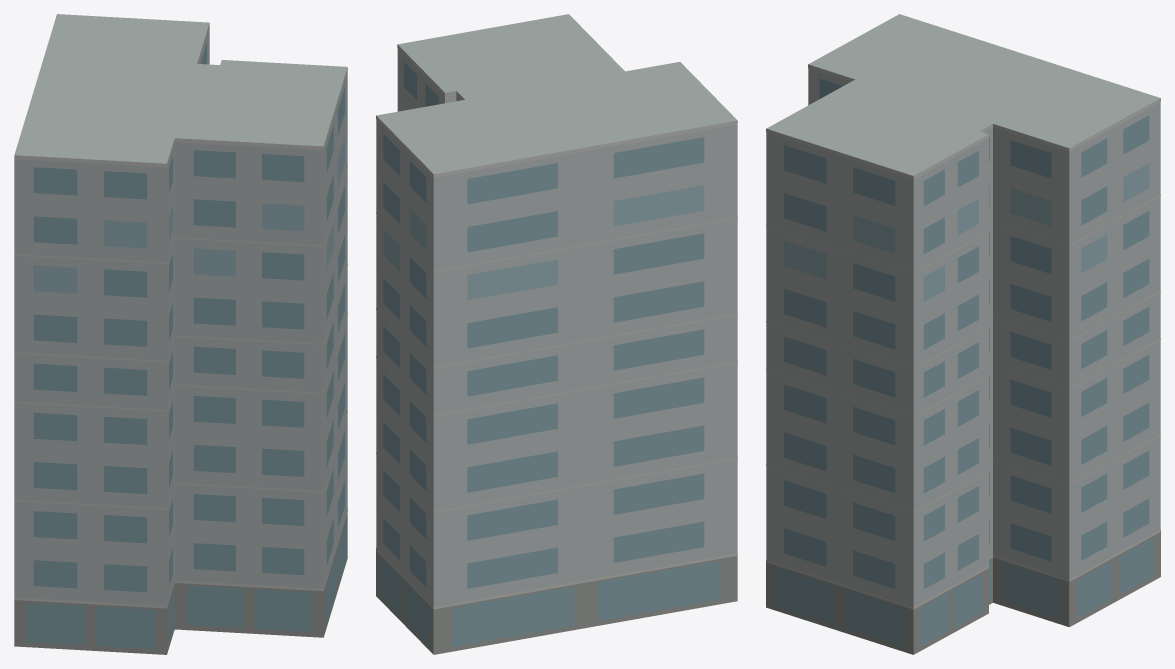
The model's file is survey-upis-32995796.glb.
The picture shows the model from 3 angles, left to right: view 1: azimuth 30°, elevation 25°; view 2: azimuth 150°, elevation 25°; view 3: azimuth 270°, elevation 25°; orthographic projection. The views are drawn at different scales.
Visible parts, largest first — view 1: survey-upis-32995796.tmp; view 2: survey-upis-32995796.tmp; view 3: survey-upis-32995796.tmp.
Part boxes in pixels (<box>): survey-upis-32995796.tmp: <box>14,14,347,654</box>; survey-upis-32995796.tmp: <box>376,14,737,654</box>; survey-upis-32995796.tmp: <box>766,14,1160,654</box>.
Size of the model in its own units: 22 by 30.3 by 22.65.
